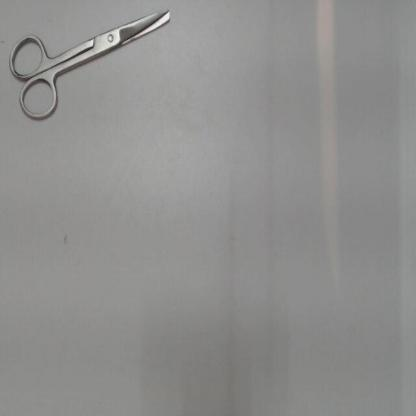Dressing Scissors: (1, 3, 181, 131)
